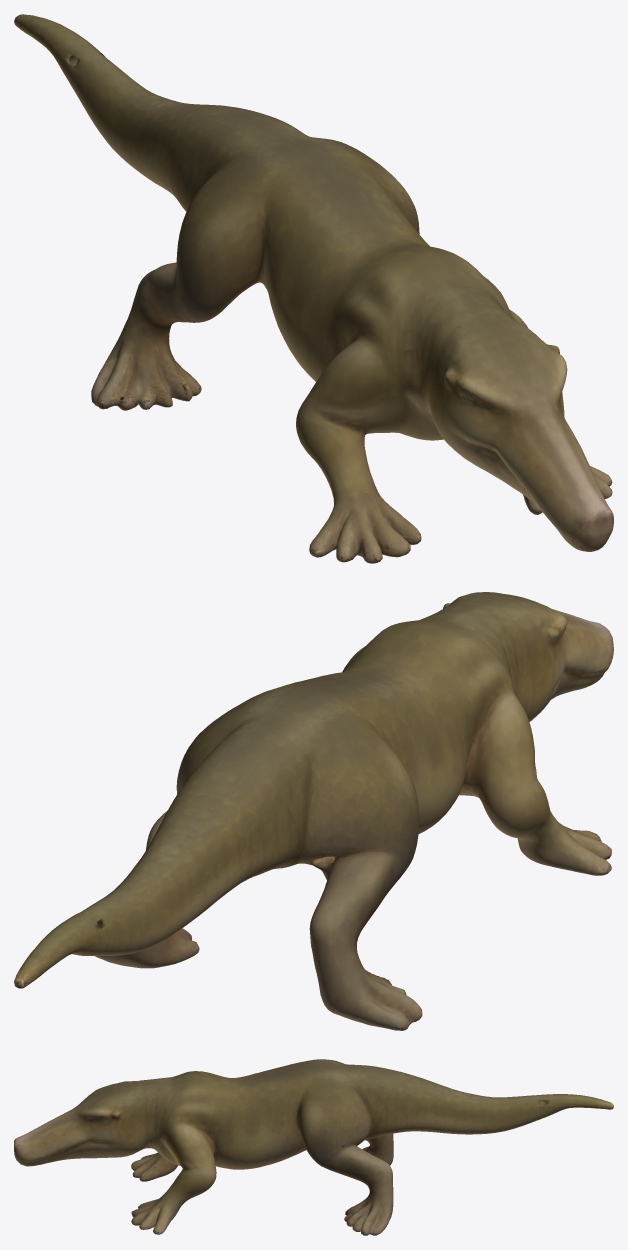
3 views of the same model, one above another, from view 1: azimuth 30°, elevation 25°; view 2: azimuth 150°, elevation 25°; view 3: azimuth 270°, elevation 25° (orthographic). The views are drawn at different scales.
Parts seen in each view (by area): view 1: world; view 2: world; view 3: world.
Boxes of the visible parts, x1,y1,x2,y2 form: world: (14, 14, 613, 563); world: (14, 592, 613, 1030); world: (14, 1059, 613, 1235).
Size of the model in its own units: 1.06 by 0.8034 by 3.3.
Materials: 1 (1 with a texture image).
